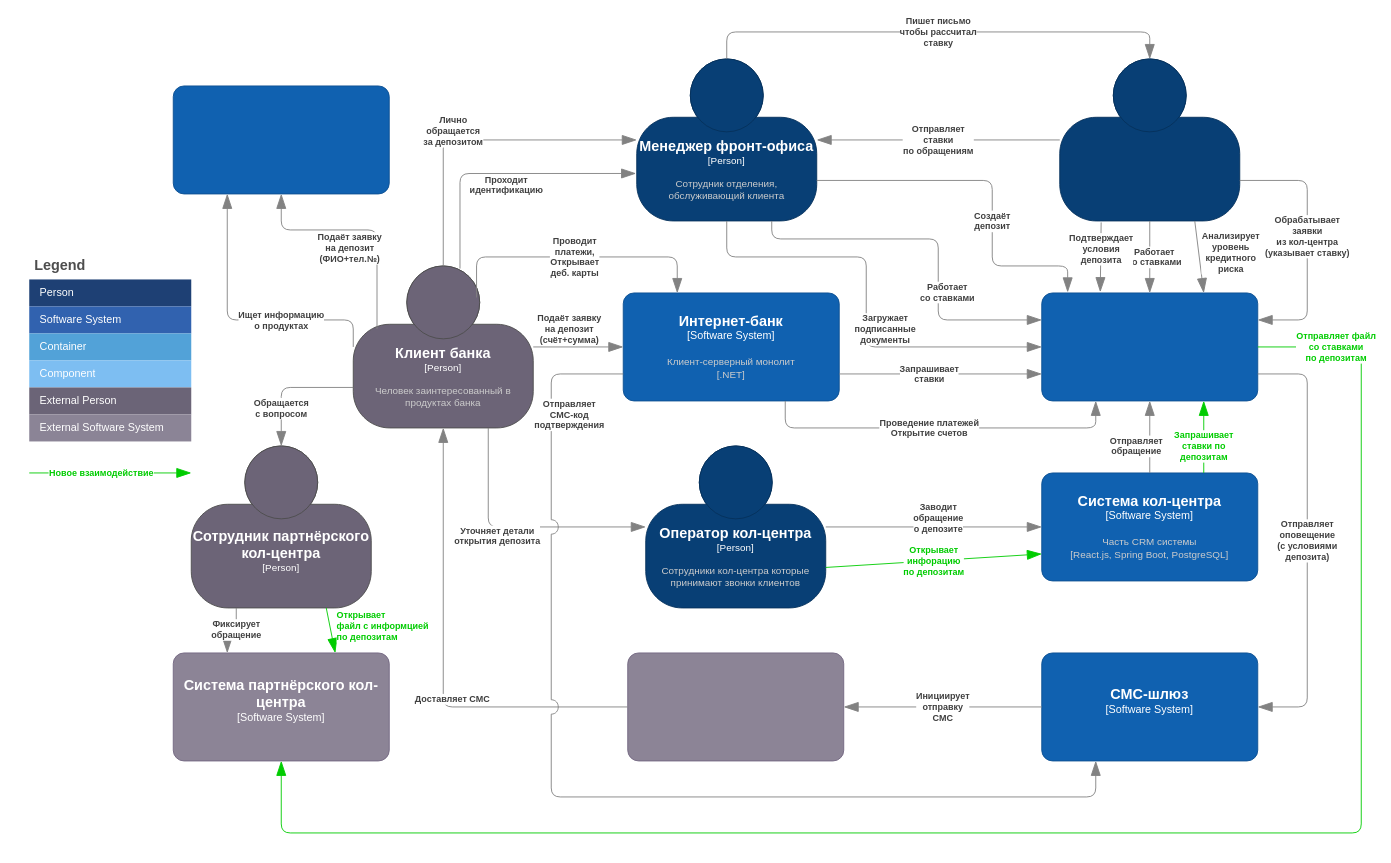
Some shapes in this 1391 by 863 pixel diagram are drawn without their labels. Here are the shapes that lost their labels. From the top down, the box of each, then its label:
(172, 85, 389, 194): Сайт [Software System] Собственная разработка [React.js, PHP]
(1059, 58, 1240, 221): Менеджер бэк-офиса [Person] Сотрудники поддерживающие внутренние процессы
(1041, 292, 1258, 401): АБС [Software System] Автоматизированная банковская система [Delphi, Oracle DB]
(627, 652, 844, 761): Телеком-оператор [Software System]
